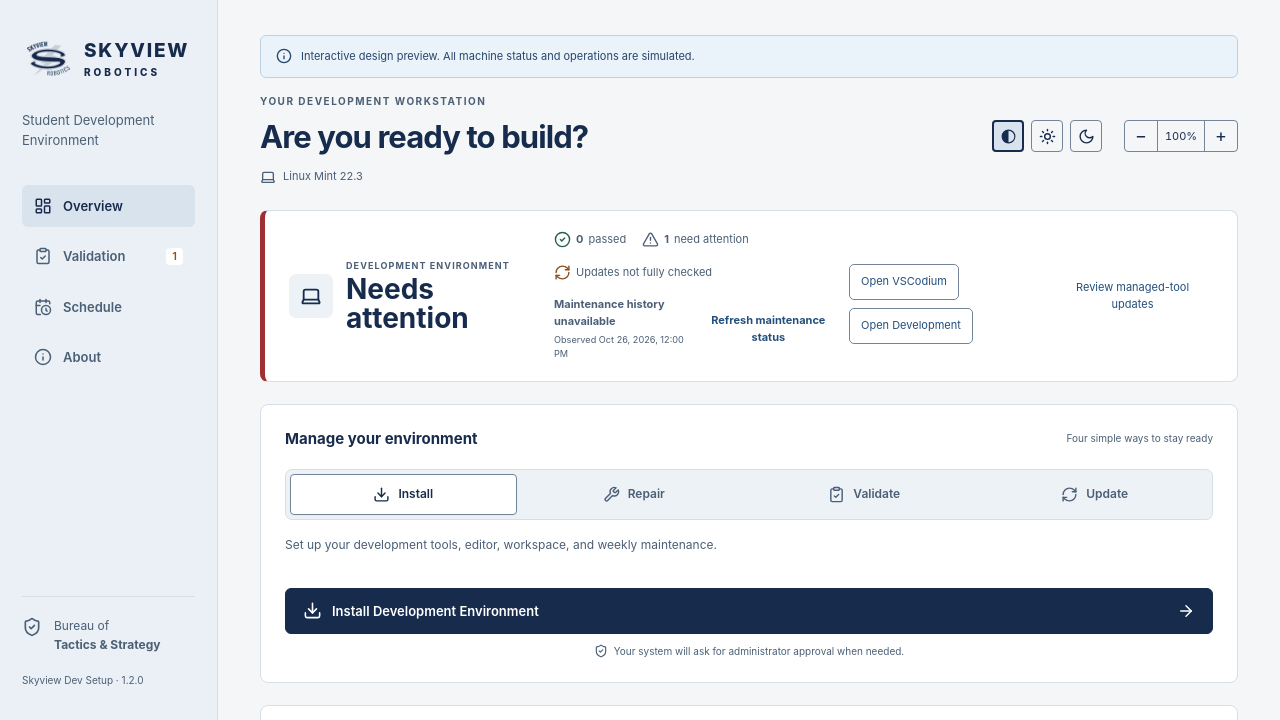
retains unknown diagnostics as plain text and offers mentor guidance
Check: the heading "Needs attention" is shown, box [346,272,469,335]
Click the button "Validation 1" at (108, 256), box [22,235,195,278]
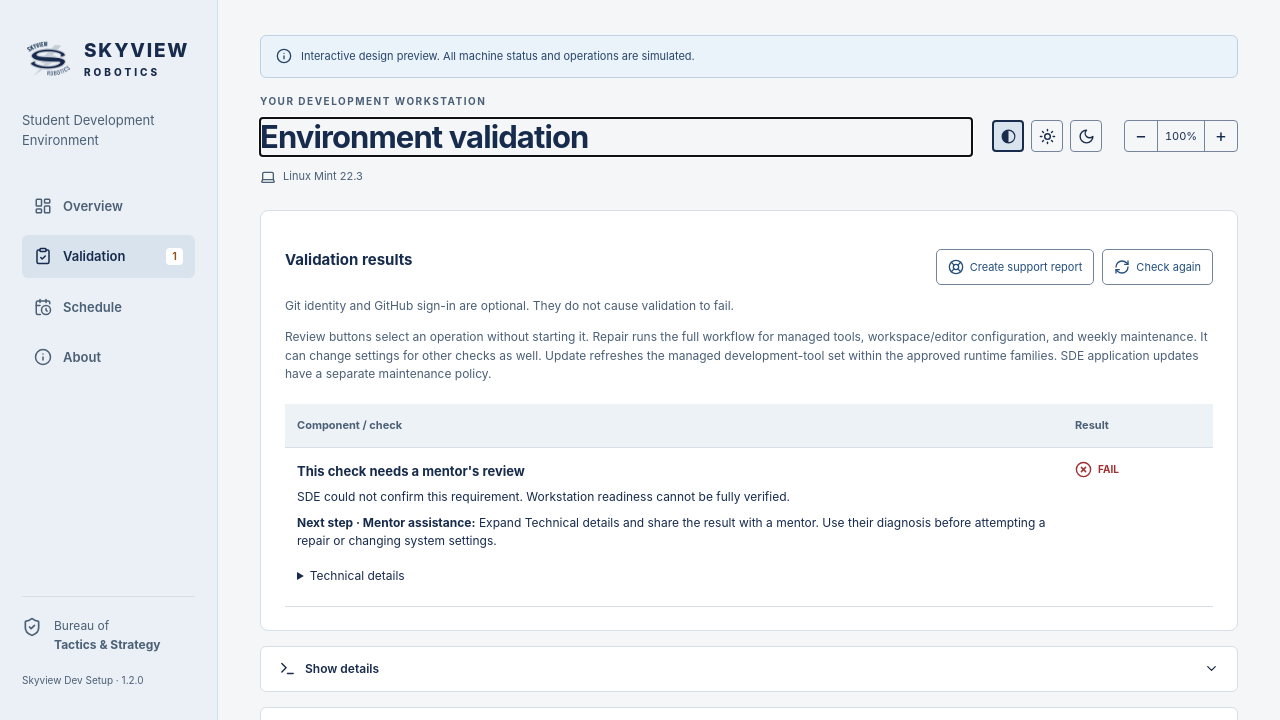
Check: the text "This check needs a mentor's review" is shown, box [297,463,525,479]
Click the heading "Technical details" at (357, 575), box [310,568,405,583]
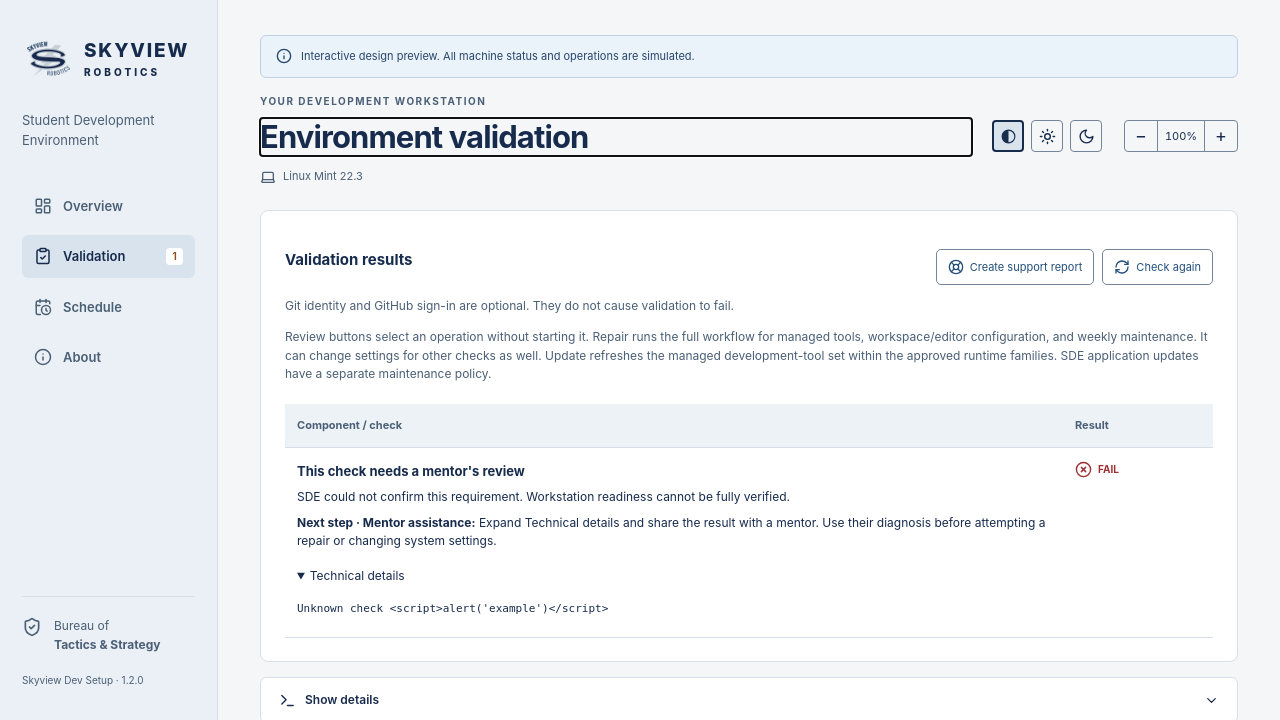
Check: the text "Unknown check <script>alert('example')</script>" is shown, box [297,602,608,615]
